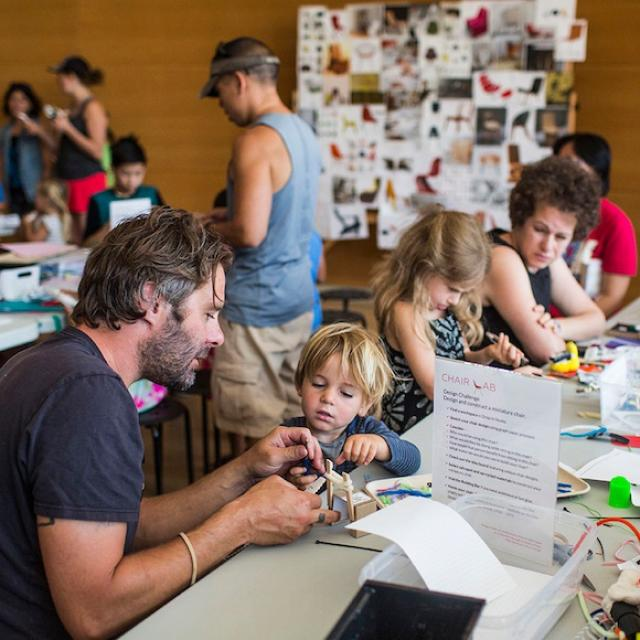body: (0, 203, 349, 639), (191, 34, 325, 461), (366, 205, 528, 437), (456, 153, 611, 370), (274, 321, 424, 496), (546, 131, 640, 321), (41, 54, 109, 244), (80, 134, 172, 250), (193, 184, 231, 391), (0, 79, 54, 222), (20, 176, 74, 244), (306, 222, 334, 338), (101, 119, 116, 188)
